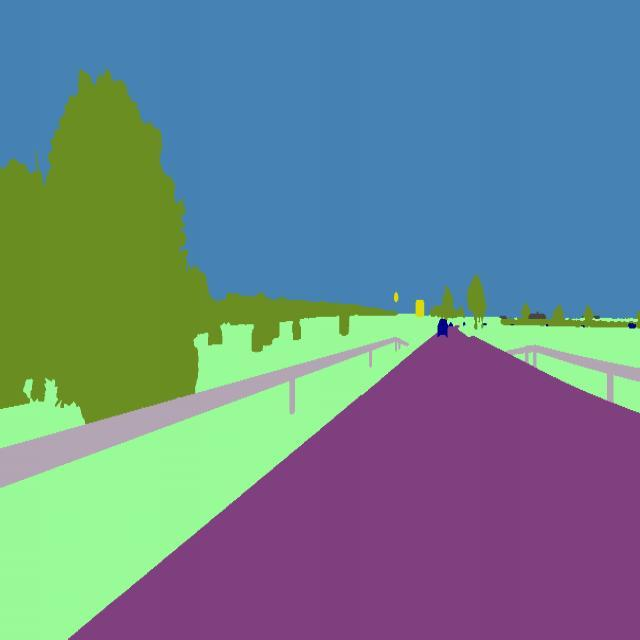safe: (435, 316, 452, 342)
